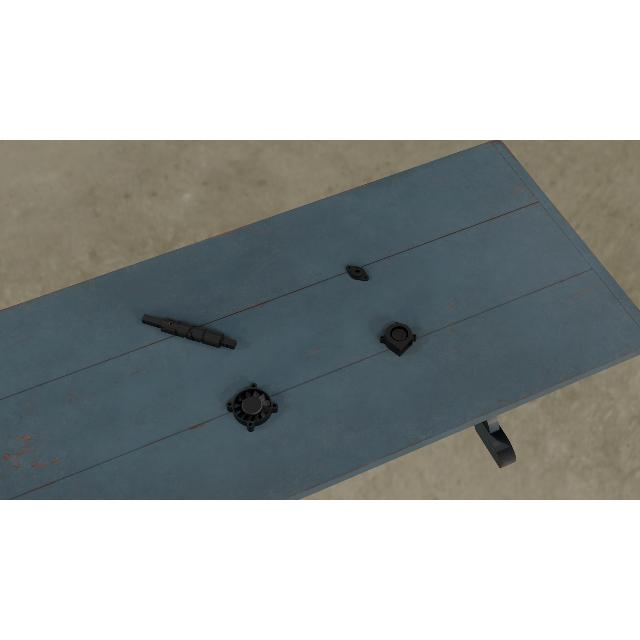Pieza1: (140, 309, 238, 355)
Pieza2: (342, 261, 372, 285)
Pieza3: (378, 318, 418, 358)
Pieza4: (224, 382, 280, 434)
